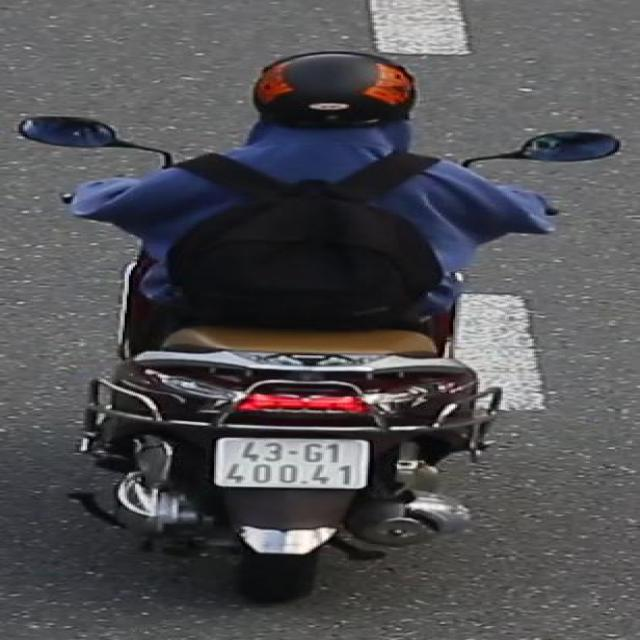LP: (209, 436, 375, 497)
helmet: (240, 47, 429, 160)
